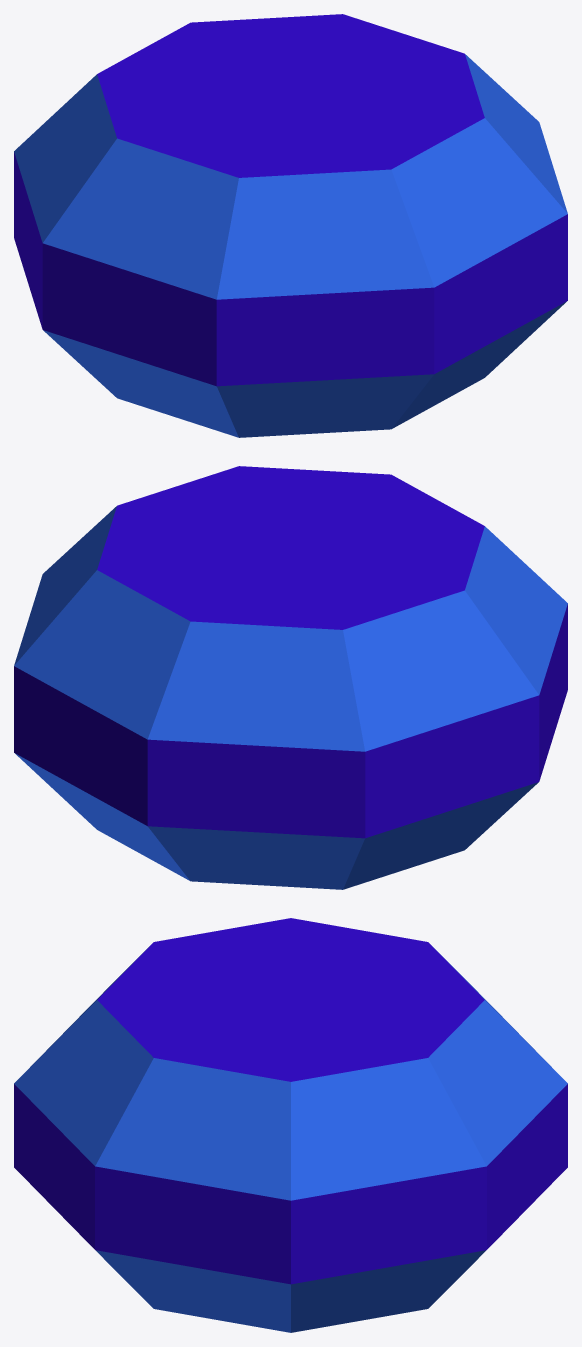
The model's file is sapphire.fbx.
3 views of the same model, one above another, from view 1: azimuth 30°, elevation 25°; view 2: azimuth 150°, elevation 25°; view 3: azimuth 270°, elevation 25° (orthographic). The views are drawn at different scales.
Parts seen in each view (by area): view 1: Cylinder; view 2: Cylinder; view 3: Cylinder.
Boxes of the visible parts, left/top/right/bottom form: Cylinder: left=14, top=14, right=567, bottom=437; Cylinder: left=14, top=466, right=567, bottom=889; Cylinder: left=14, top=918, right=567, bottom=1332.
Size of the model in its own units: 100 by 50 by 100.
